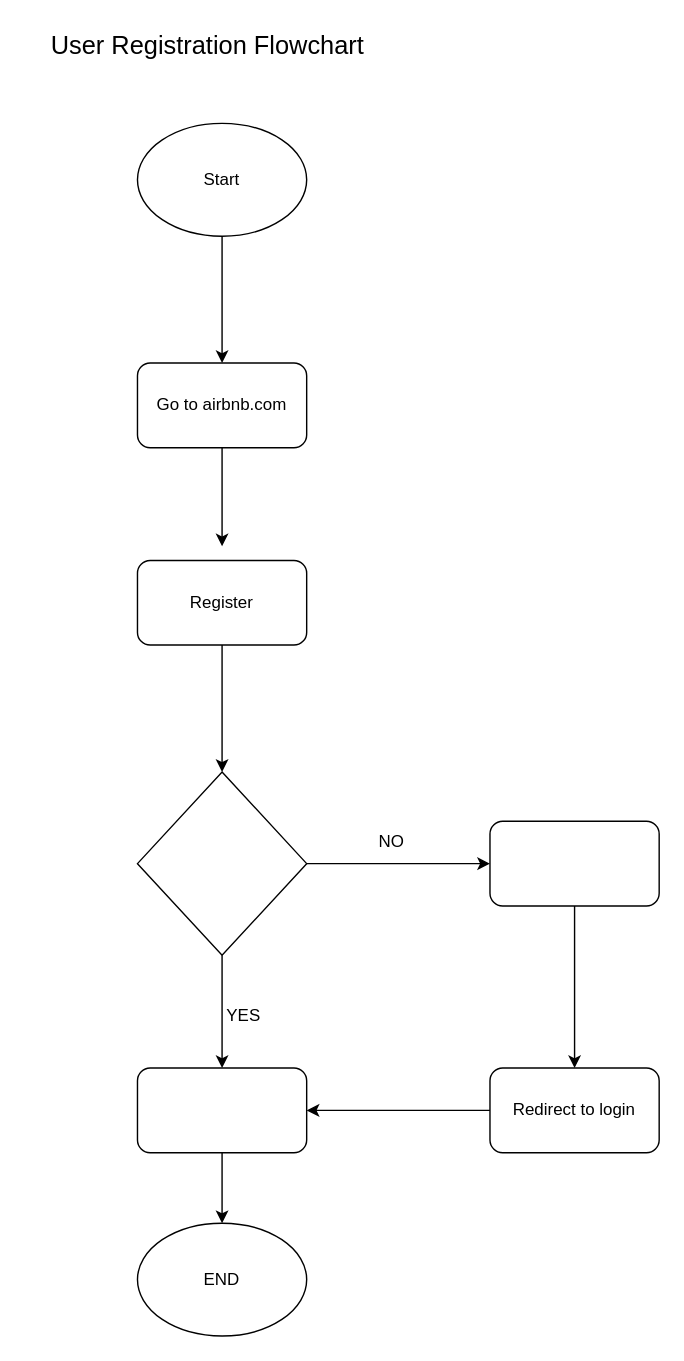
The diagram is 684 pixels wide and 1361 high, and some of its shapes have lost their labels. Each missing label, with the box of its shape:
Add credentials to user database: (489, 820, 659, 906)
Is user already registered?: (136, 771, 307, 955)
Perform Login: (136, 1067, 307, 1153)
